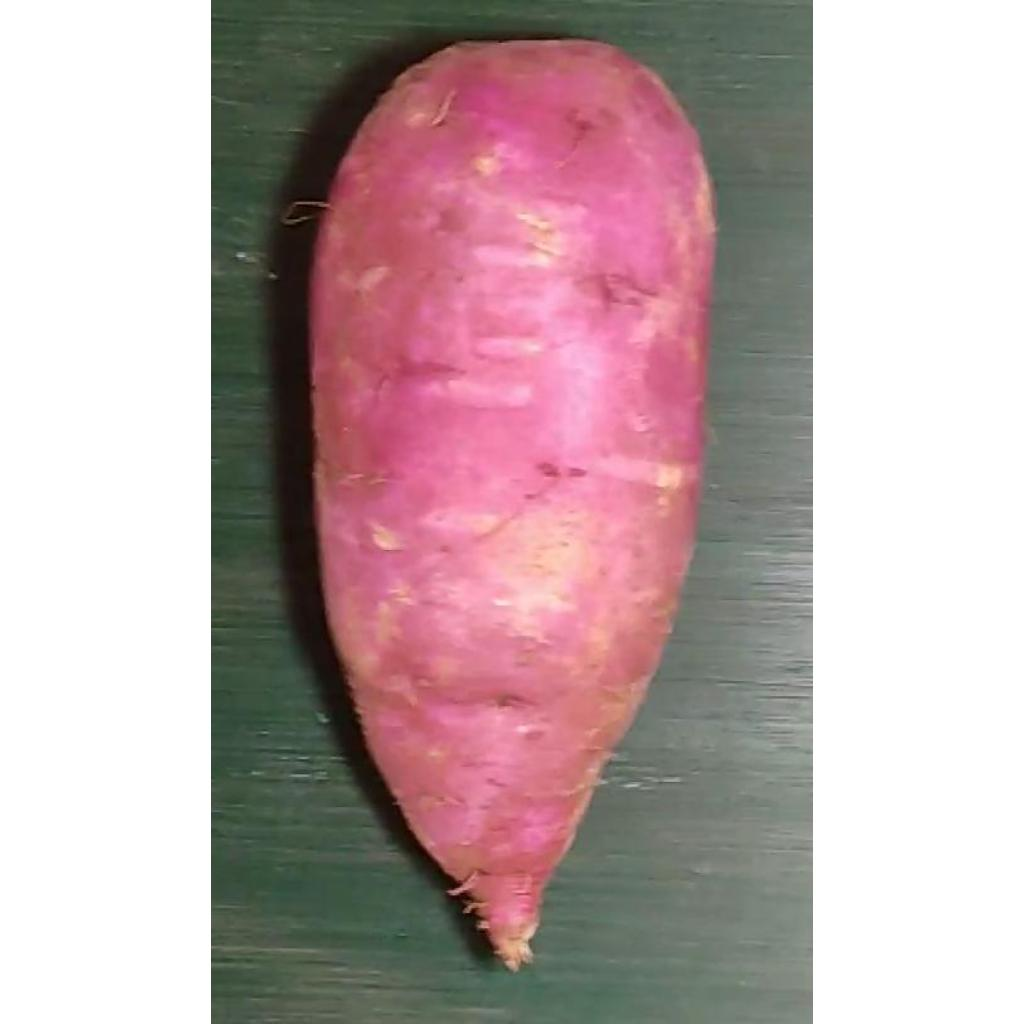Sweet Potato: (308, 39, 719, 969)
